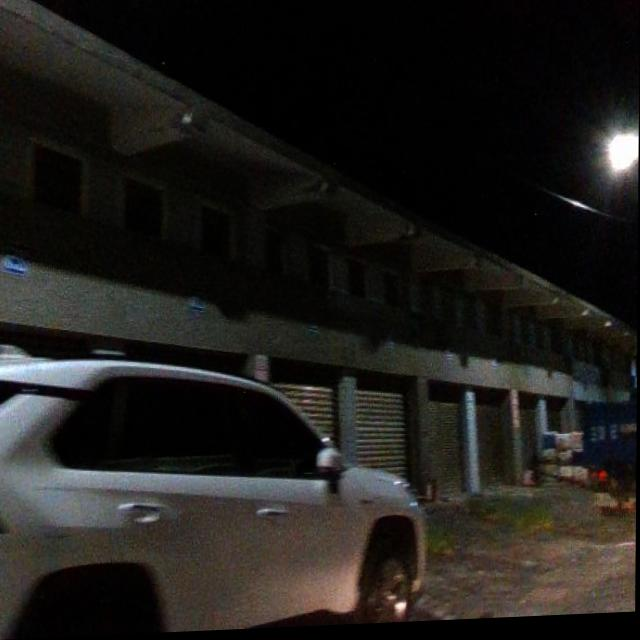pollute: (518, 428, 595, 502)
